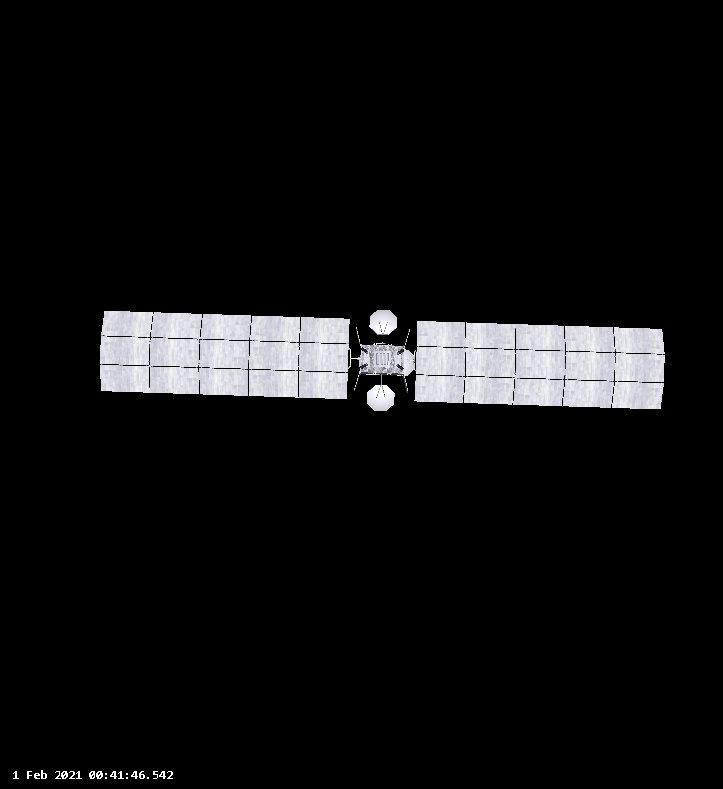antenna: (365, 383, 397, 413), (368, 308, 399, 336)
body: (359, 341, 407, 377)
solar: (98, 309, 353, 402), (413, 319, 667, 412)
thruster: (359, 345, 371, 355), (396, 346, 406, 357), (395, 363, 406, 372), (359, 362, 369, 370)
